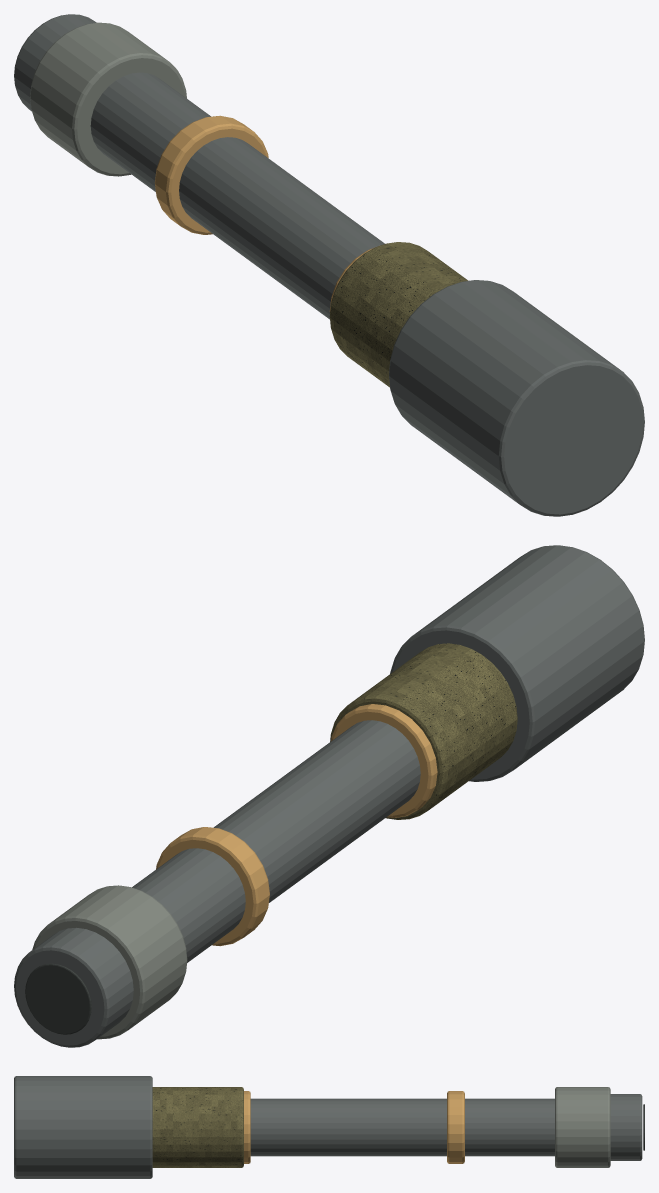
The model's file is STK-G01.fbx.
3 views of the same model, one above another, from view 1: azimuth 30°, elevation 25°; view 2: azimuth 150°, elevation 25°; view 3: azimuth 270°, elevation 25° (orthographic). The views are drawn at different scales.
Visible parts, largest first — view 1: STK-G01_Steel, STK-G01_Edge, STK-G01_Armor, STK-G01_Brass; view 2: STK-G01_Steel, STK-G01_Armor, STK-G01_Edge, STK-G01_Brass, STK-G01_Rubber; view 3: STK-G01_Steel, STK-G01_Armor, STK-G01_Edge, STK-G01_Brass.
Part boxes in pixels (x1,y1,x2,y2): STK-G01_Steel: (14, 14, 644, 516); STK-G01_Edge: (30, 22, 186, 176); STK-G01_Armor: (329, 242, 468, 387); STK-G01_Brass: (154, 115, 380, 311); STK-G01_Steel: (14, 545, 644, 1047); STK-G01_Armor: (330, 643, 517, 819); STK-G01_Edge: (32, 885, 187, 1039); STK-G01_Brass: (156, 704, 437, 946); STK-G01_Rubber: (25, 963, 91, 1034); STK-G01_Steel: (14, 1076, 642, 1178); STK-G01_Armor: (152, 1087, 243, 1167); STK-G01_Edge: (555, 1087, 610, 1167); STK-G01_Brass: (244, 1091, 464, 1163).
Bounding box in the file's own units: 52 × 52 × 318.
